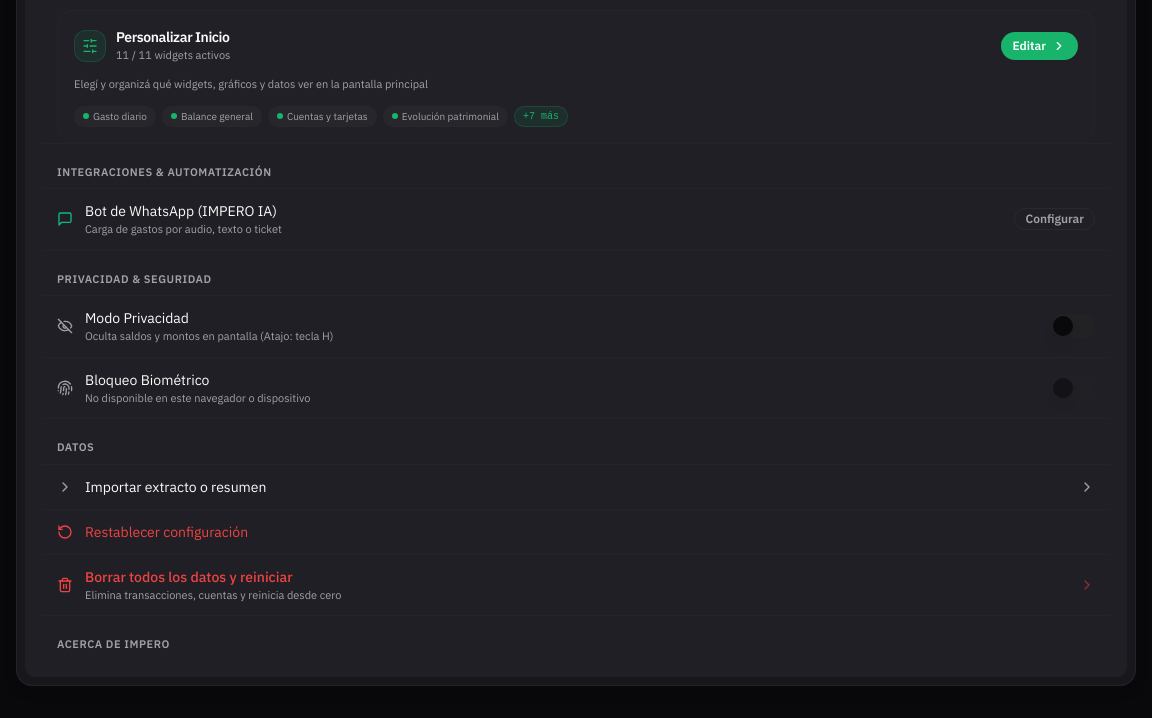
Scenario: User Data Purge Suite › SettingsPage enables confirm button when typing 'DELETE' as well
(page scrolled)
Click the text "Borrar todos los datos y reiniciar": x=189, y=577 left=85, top=568, right=292, bottom=586
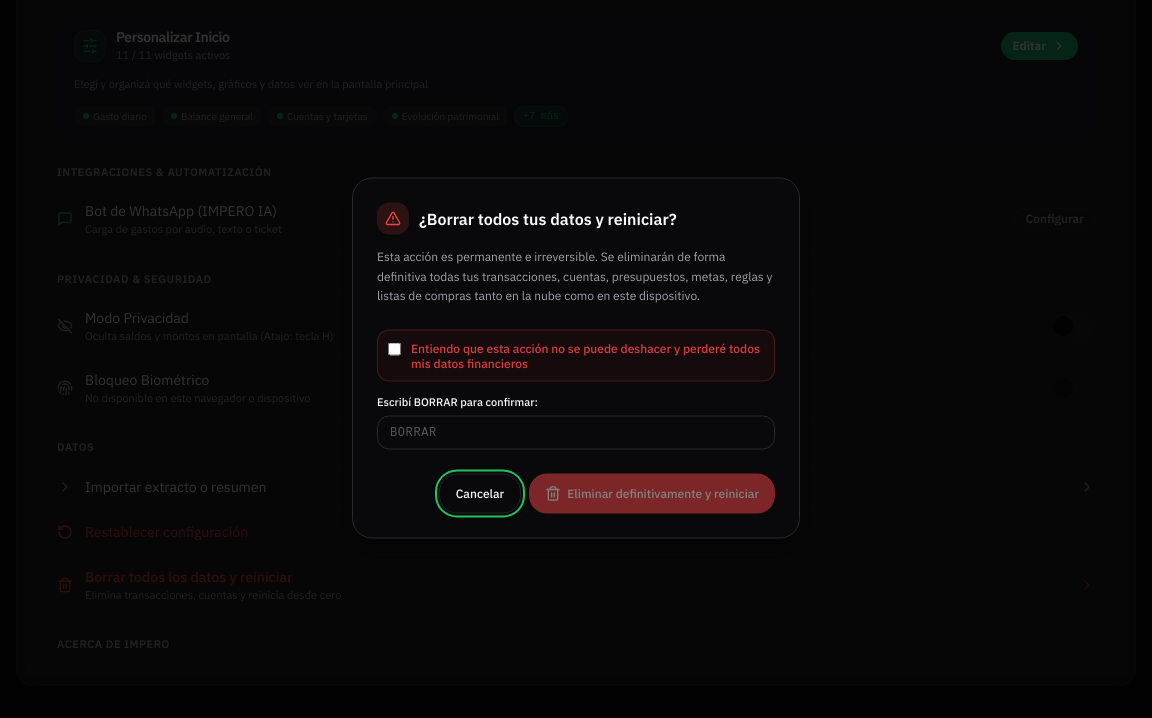
Click the checkbox: x=394, y=348 left=388, top=342, right=401, bottom=355
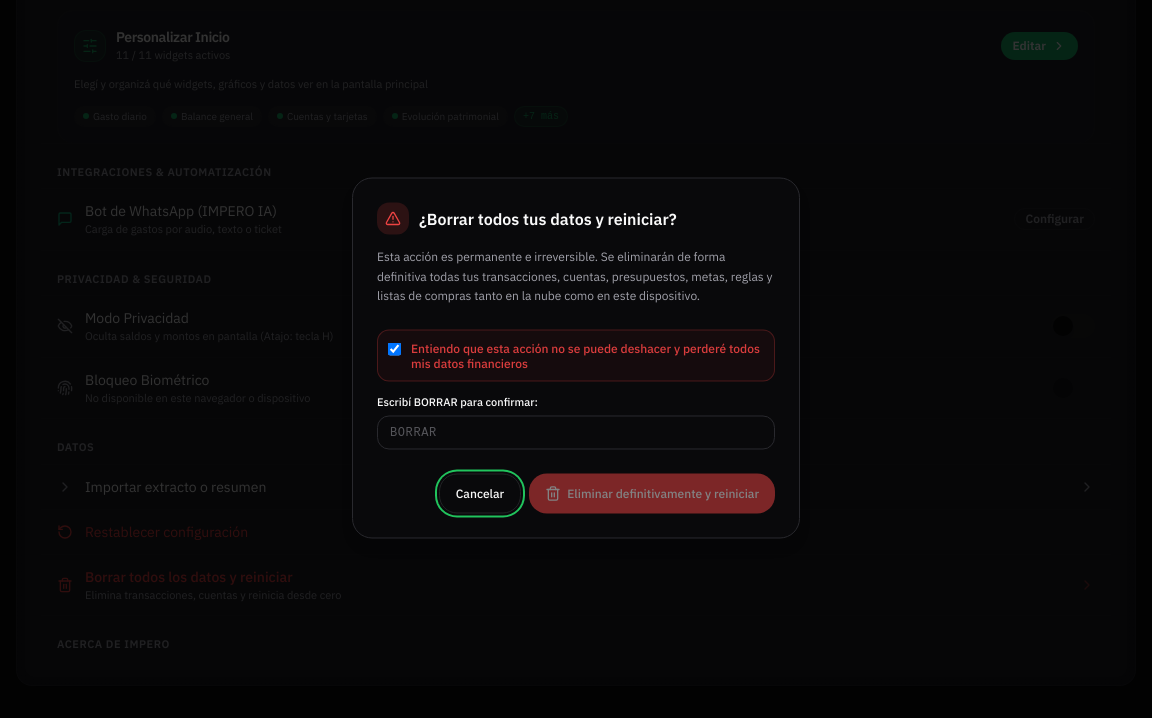
In the field with placeholder "BORRAR": x=576, y=432 left=377, top=416, right=775, bottom=450, type "DELETE"
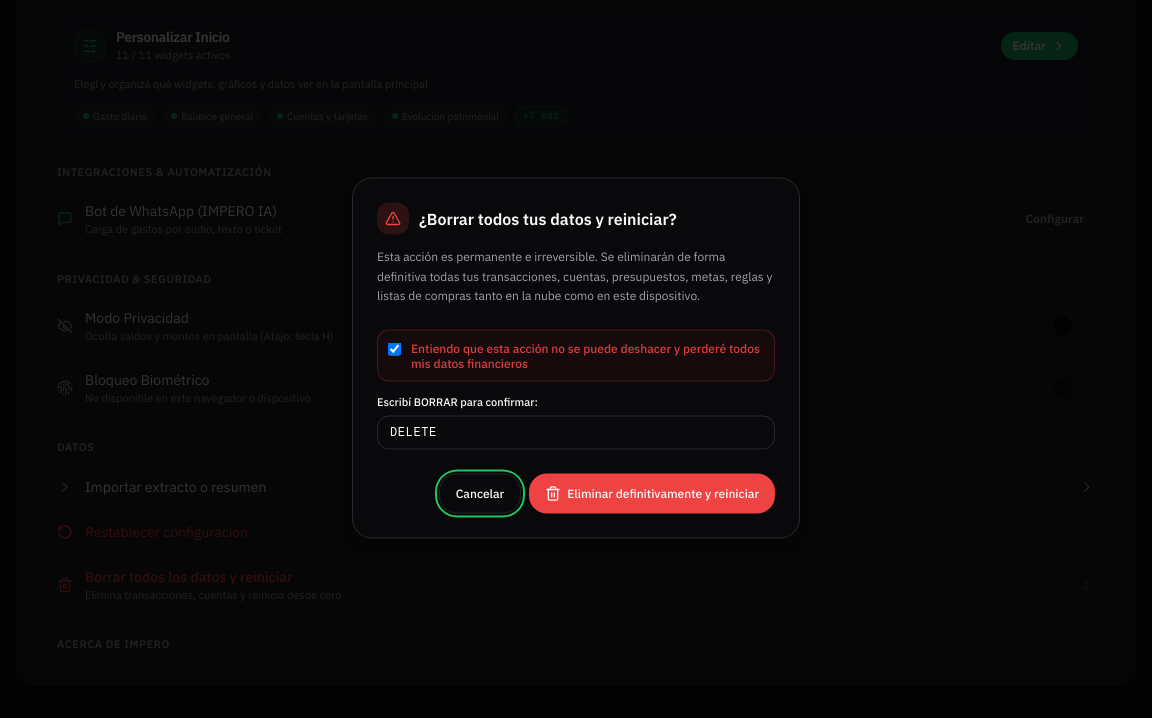
Expected: the button "Eliminar definitivamente y reiniciar" is enabled, left=529, top=474, right=775, bottom=514
